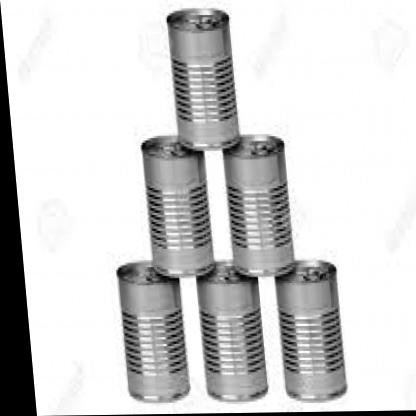Metal: (75, 9, 375, 415)
